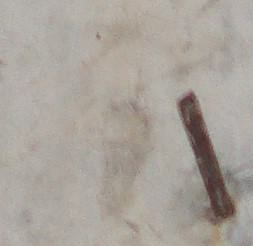Exposed reinforcement: (175, 88, 235, 218)
